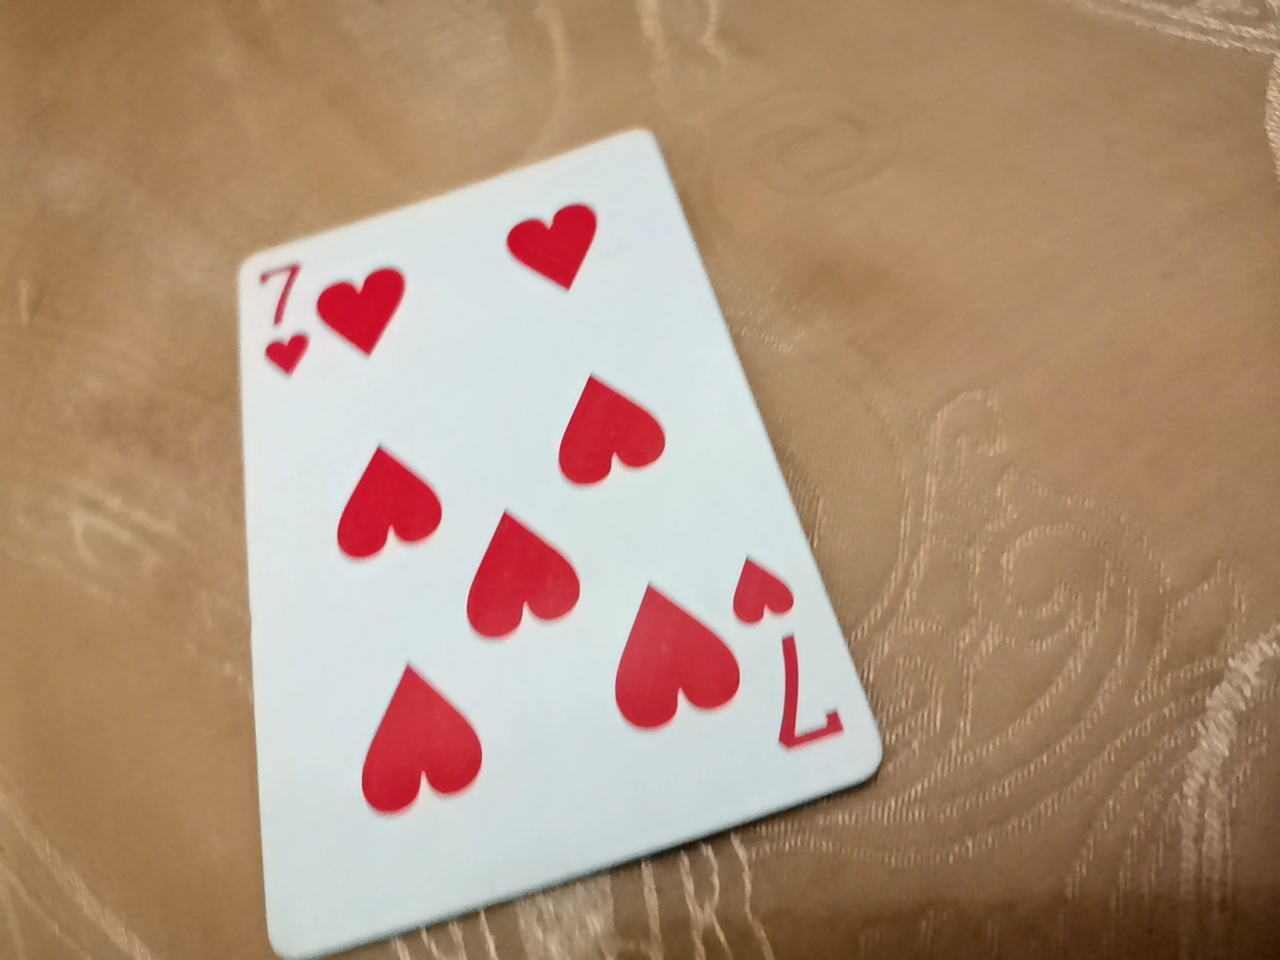hx 7: (271, 93, 911, 824)
